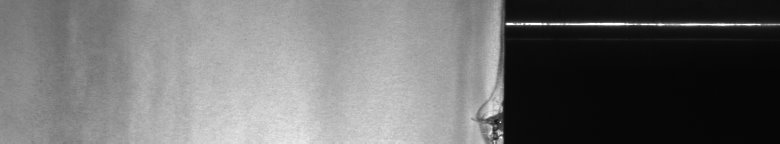hb: (468, 85, 492, 136)
